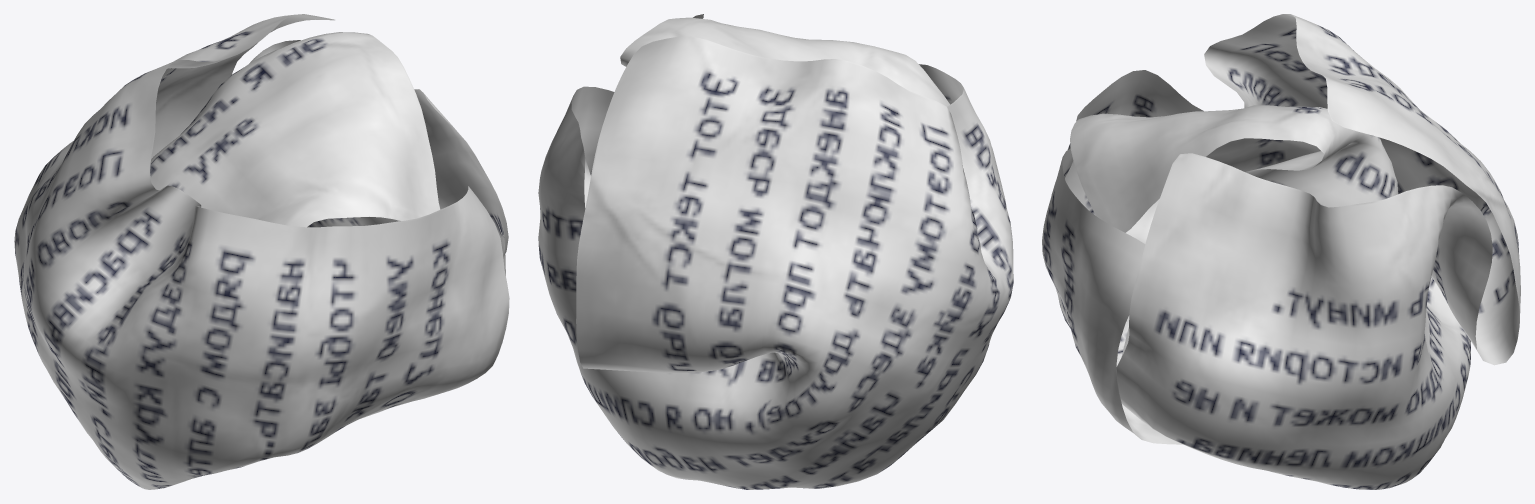
Rendered from KomokBumagi.fbx.
The picture shows the model from 3 angles, left to right: view 1: azimuth 30°, elevation 25°; view 2: azimuth 150°, elevation 25°; view 3: azimuth 270°, elevation 25°; orthographic projection.
Parts seen in each view (by area): view 1: Plane.001; view 2: Plane.001; view 3: Plane.001.
Boxes of the visible parts, box(x1,y1,x2,y2) form: Plane.001: box(14, 14, 509, 489); Plane.001: box(538, 14, 1013, 489); Plane.001: box(1042, 14, 1520, 489).
Size of the model in its own units: 173 by 166 by 172.
